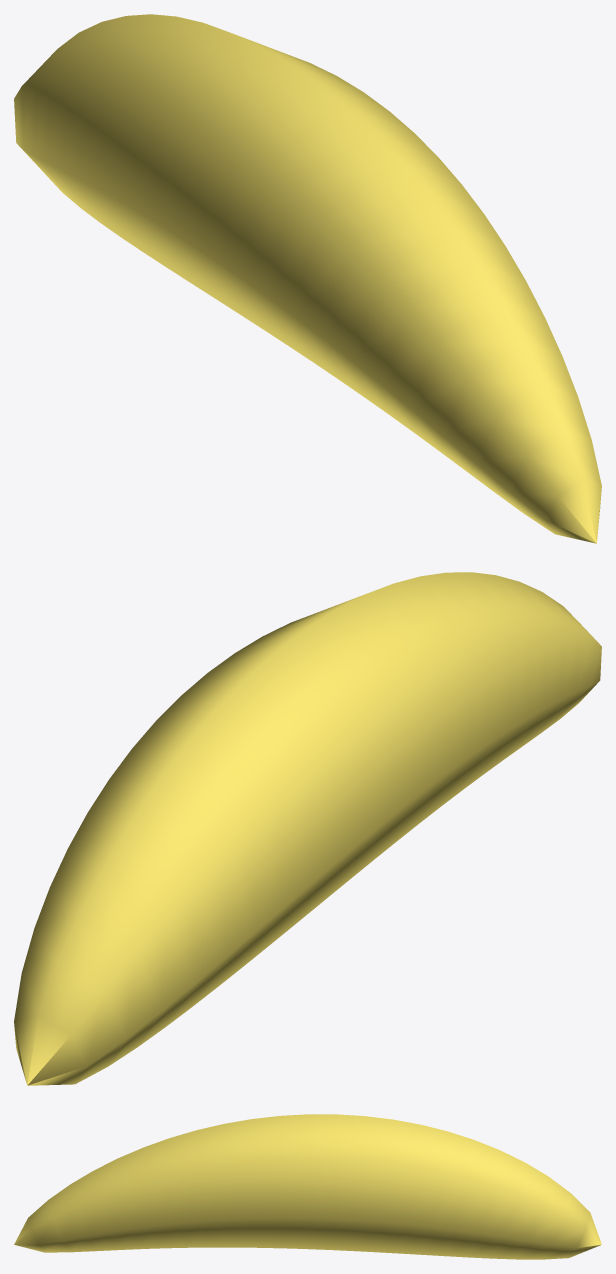
Rendered from BananaPistol.fbx.
The picture shows the model from 3 angles, top to bottom: view 1: azimuth 30°, elevation 25°; view 2: azimuth 150°, elevation 25°; view 3: azimuth 270°, elevation 25°; orthographic projection. The views are drawn at different scales.
Visible parts, largest first — view 1: BananaPistol; view 2: BananaPistol; view 3: BananaPistol.
Part boxes in pixels (x1,y1,x2,y2): BananaPistol: (14,14,601,543); BananaPistol: (14,572,601,1085); BananaPistol: (14,1114,601,1259).
Size of the model in its own units: 4.93 by 6.56 by 25.01.
